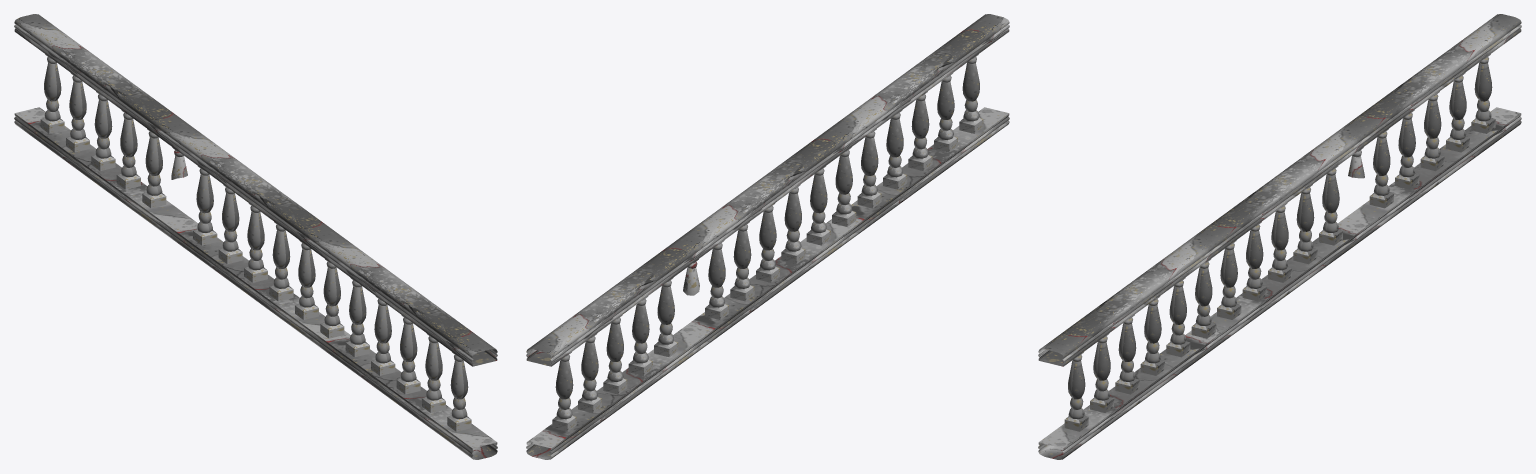
The model's file is Railing_4.fbx.
The picture shows the model from 3 angles, left to right: view 1: azimuth 30°, elevation 25°; view 2: azimuth 150°, elevation 25°; view 3: azimuth 330°, elevation 25°; orthographic projection.
Visible parts, largest first — view 1: Railing_4; view 2: Railing_4; view 3: Railing_4.
Part boxes in pixels (bbox=[...]): Railing_4: bbox=[14, 14, 497, 459]; Railing_4: bbox=[526, 14, 1009, 459]; Railing_4: bbox=[1038, 14, 1521, 459].
Bounding box in the file's own units: 21.8 × 86.75 × 670.
